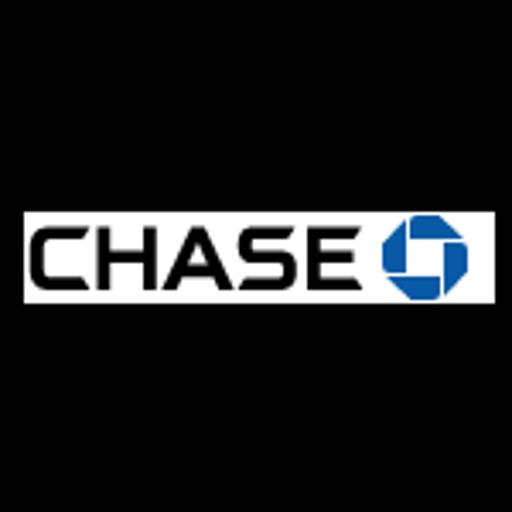Chase Personal Banking: (0, 188, 512, 324)
